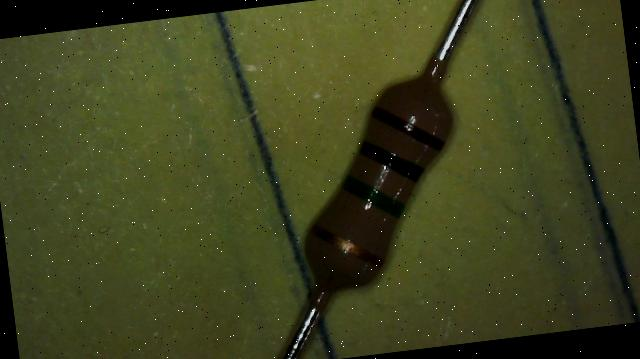black: (358, 134, 426, 187)
brown: (370, 98, 448, 158)
gold: (310, 216, 384, 274)
green: (340, 168, 406, 223)
resistor: (259, 38, 492, 326)
